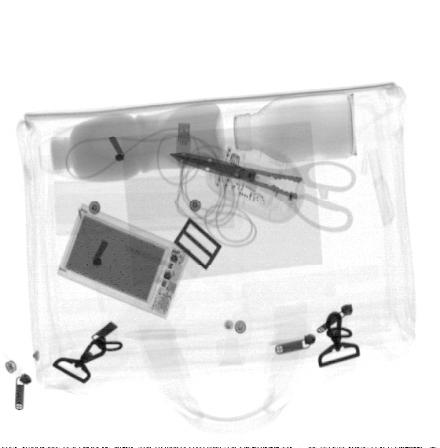Powerbank: (54, 202, 192, 321)
Scissors: (169, 150, 358, 234)
